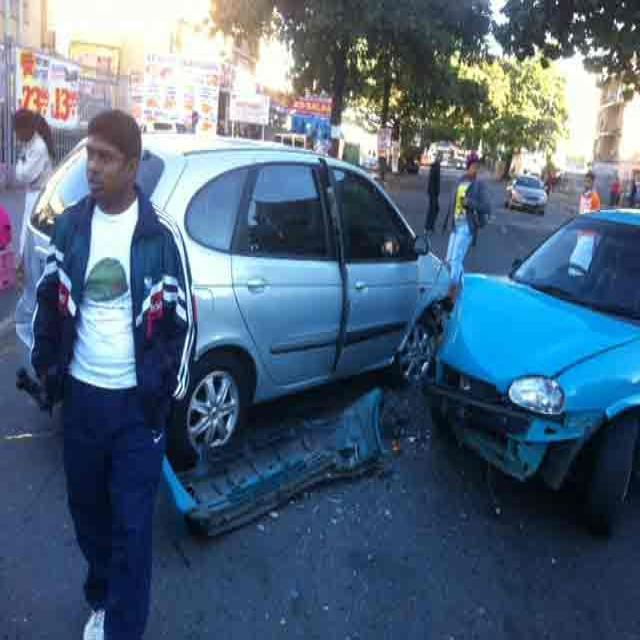crush: (427, 278, 608, 487), (419, 266, 457, 335)
